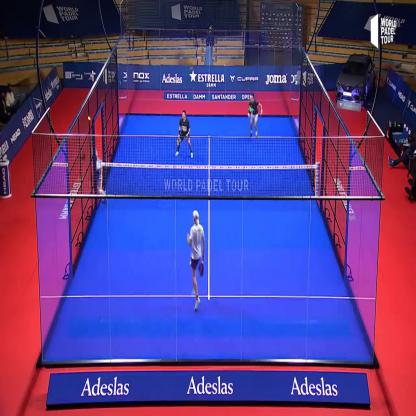ball: (86, 112, 92, 125)
